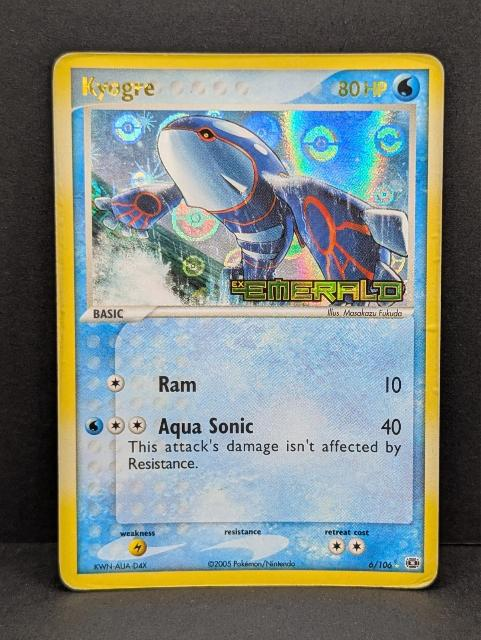Card: (47, 43, 450, 600)
Name: (77, 71, 159, 109)
